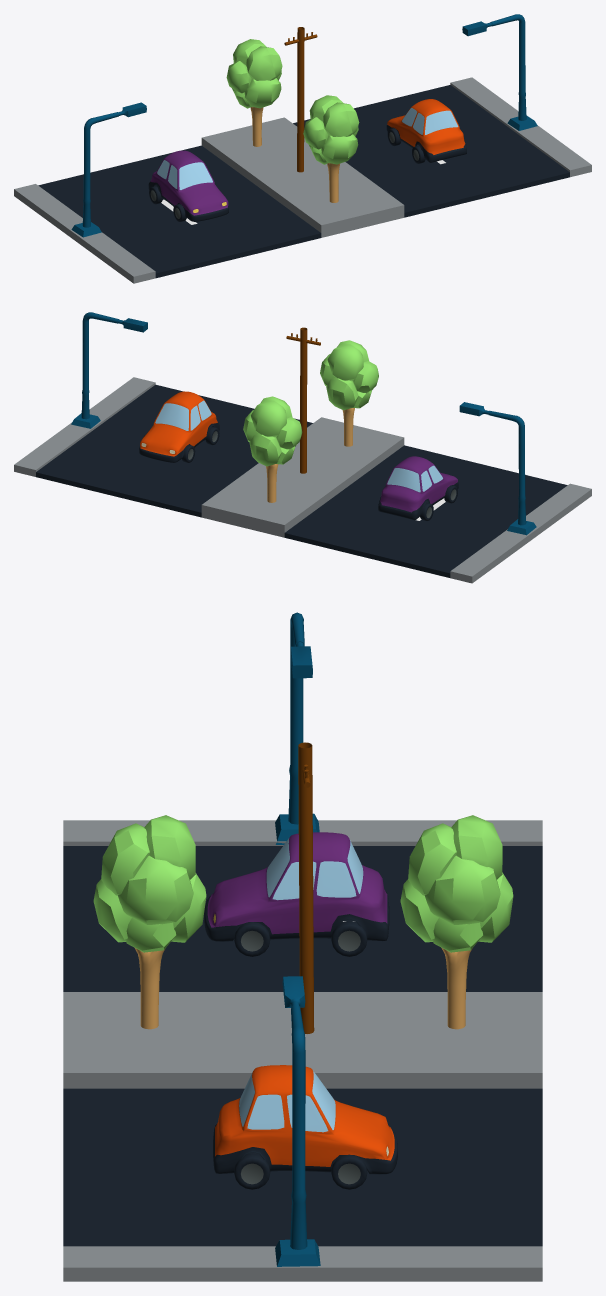
File: City Street Props 01.fbx
3 renders of one model, top to bottom at view 1: azimuth 30°, elevation 25°; view 2: azimuth 150°, elevation 25°; view 3: azimuth 270°, elevation 25°, orthographic. The views are drawn at different scales.
Parts seen in each view (by area): view 1: Cube, Car, Sphere.006, Sphere.002, Car.001, Sphere.003, Sphere.005, Sphere.004; view 2: Cube, Car.001, Sphere.006, Sphere.002, Car, Sphere.003, Sphere.005, Sphere.004; view 3: Cube, Sphere.002, Sphere.006, Car.001, Car, Sphere.005, Sphere.004, Sphere.003, Cylender003.004, Cylender003.007, Cylender003.008, Cylender003.003.
Boxes of the visible parts, box(x1,y1,x2,y2) form: Cube: box(14, 77, 591, 283); Car: box(148, 150, 228, 221); Sphere.006: box(226, 39, 282, 146); Sphere.002: box(303, 95, 359, 202); Car.001: box(386, 99, 466, 162); Sphere.003: box(71, 102, 146, 237); Sphere.005: box(462, 14, 537, 130); Sphere.004: box(284, 27, 317, 172); Cube: box(14, 377, 591, 583); Car.001: box(139, 391, 219, 462); Sphere.006: box(243, 396, 302, 502); Sphere.002: box(320, 340, 378, 446); Car: box(378, 456, 458, 520); Sphere.003: box(459, 402, 536, 535); Sphere.005: box(71, 312, 147, 428); Sphere.004: box(286, 327, 320, 473); Cube: box(63, 820, 542, 1281); Sphere.002: box(93, 815, 206, 1029); Sphere.006: box(400, 815, 513, 1029); Car.001: box(213, 1065, 397, 1174); Car: box(204, 832, 389, 941); Sphere.005: box(275, 976, 320, 1266); Sphere.004: box(298, 742, 314, 1033); Sphere.003: box(275, 612, 319, 844); Cylender003.004: box(331, 920, 367, 956); Cylender003.007: box(234, 1153, 270, 1189); Cylender003.008: box(331, 1154, 367, 1189); Cylender003.003: box(234, 922, 270, 956).
Bounding box in the file's own units: 442 × 143 × 200.
